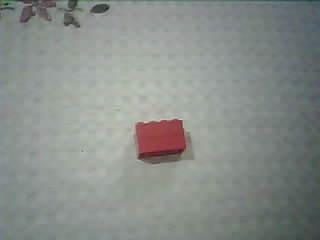lego: (134, 118, 188, 159)
